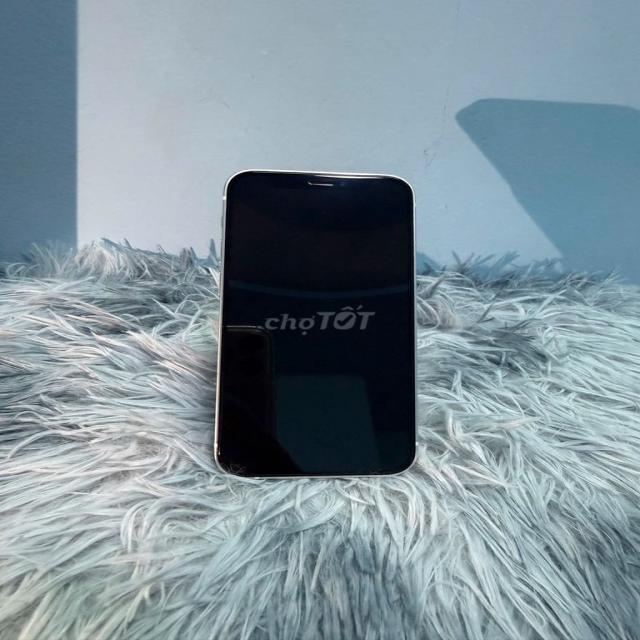gen_12_13: (215, 163, 427, 484)
